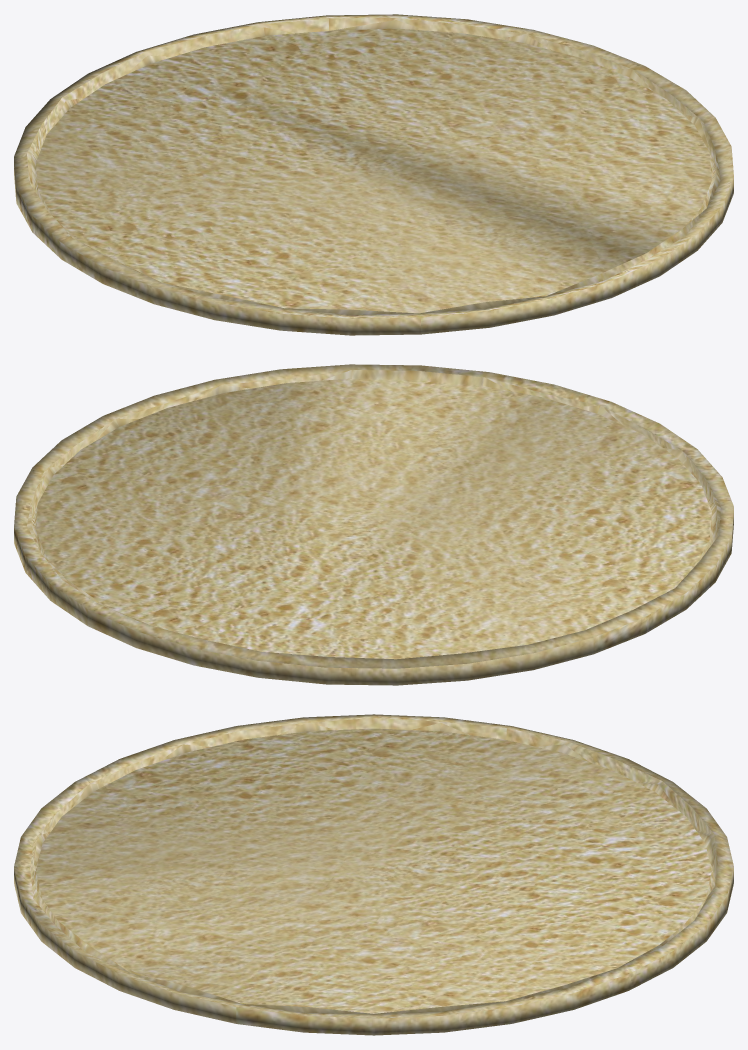
File: hamur yuvarlak.fbx
3 renders of one model, top to bottom at view 1: azimuth 30°, elevation 25°; view 2: azimuth 150°, elevation 25°; view 3: azimuth 270°, elevation 25°, orthographic.
Visible parts, largest first — view 1: Circle; view 2: Circle; view 3: Circle.
Boxes of the visible parts, <box> form: Circle: <box>14,14,733,335</box>; Circle: <box>14,364,733,685</box>; Circle: <box>14,714,733,1035</box>.
Size of the model in its own units: 200 by 6.51 by 200.
1 material, 1 textured.
